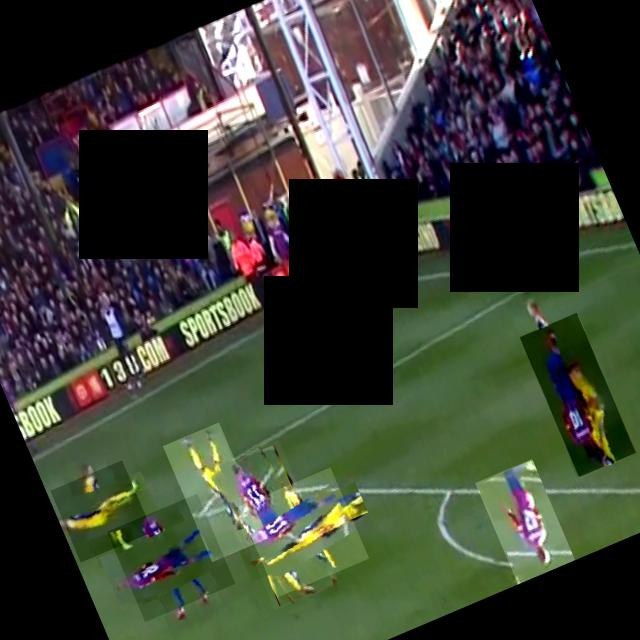soccer-player: (212, 438, 338, 610), (518, 312, 634, 476), (236, 466, 368, 596), (105, 492, 234, 622), (162, 421, 266, 561), (474, 458, 574, 584), (49, 459, 151, 561)
